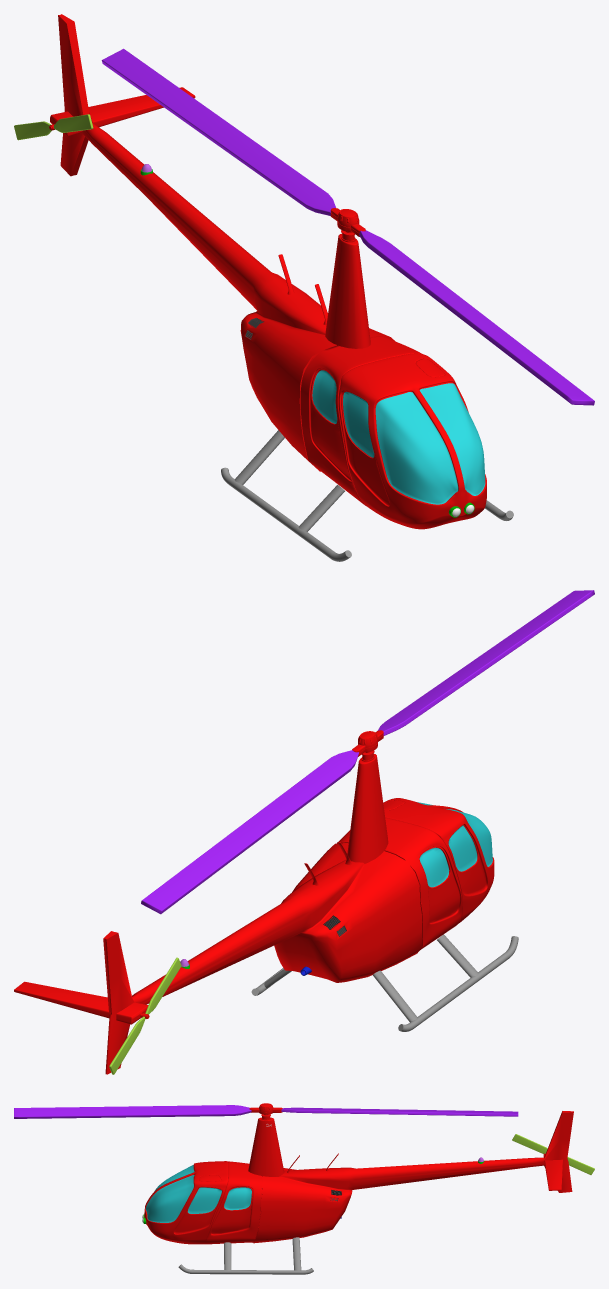
The model's file is HelicopterModel.FBX.
3 views of the same model, one above another, from view 1: azimuth 30°, elevation 25°; view 2: azimuth 150°, elevation 25°; view 3: azimuth 270°, elevation 25° (orthographic). The views are drawn at different scales.
Visible parts, largest first — view 1: Object004, Cabina, Eliche, Motore, PortaElicaPiccola, Line001, Line002; view 2: Cabina, Object004, Eliche, Motore, PortaElicaPiccola, Line001, Line002; view 3: Cabina, Object004, Eliche, Motore, Line001, PortaElicaPiccola, Line002, Plane004.
Boxes of the visible parts, box(x1,y1,x2,y2) form: Object004: box(300, 337, 486, 529); Cabina: box(58, 14, 395, 471); Eliche: box(101, 48, 594, 405); Motore: box(325, 208, 370, 348); PortaElicaPiccola: box(49, 87, 195, 136); Line001: box(221, 467, 513, 561); Line002: box(234, 430, 344, 531); Cabina: box(103, 842, 422, 1074); Object004: box(337, 798, 494, 949); Eliche: box(141, 590, 594, 914); Motore: box(347, 730, 388, 863); PortaElicaPiccola: box(14, 981, 149, 1024); Line001: box(251, 936, 518, 1031); Line002: box(264, 934, 478, 1022); Cabina: box(252, 1111, 573, 1243); Object004: box(144, 1161, 261, 1244); Eliche: box(14, 1105, 518, 1118); Motore: box(248, 1103, 284, 1176); Line001: box(178, 1264, 313, 1274); PortaElicaPiccola: box(543, 1153, 562, 1190); Line002: box(224, 1237, 301, 1270); Plane004: box(512, 1134, 547, 1153).
Size of the model in its own units: 25.37 by 33.71 by 120.
